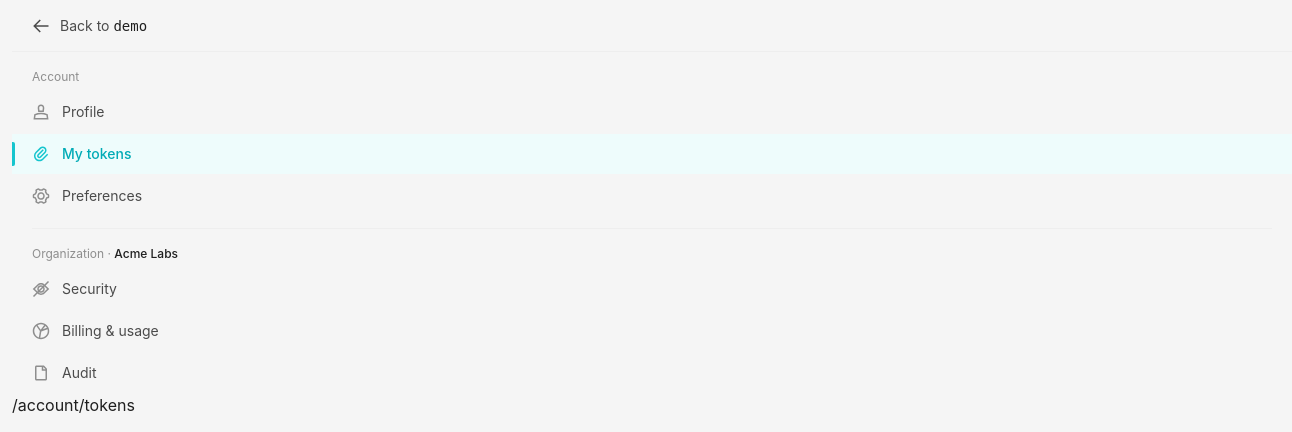
account mode shows the way back and the account and organization screens
Expected: the text "Account" is shown, [32, 69, 79, 84]
Expected: the text "Organization · Acme Labs" is shown, [32, 246, 178, 261]
What coordinates should you click on to do the following:
click the link "Back to demo"
I would click on:
 (85, 25)
Its box is [12, 0, 1291, 52].
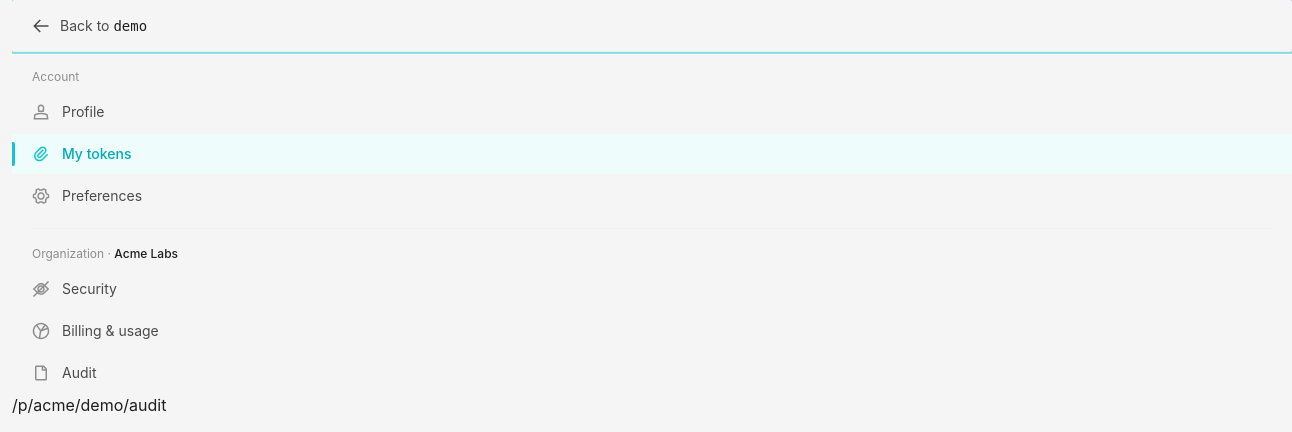
Result: the text with test id "location" reads "/p/acme/demo/audit" at [12, 395, 166, 415]
